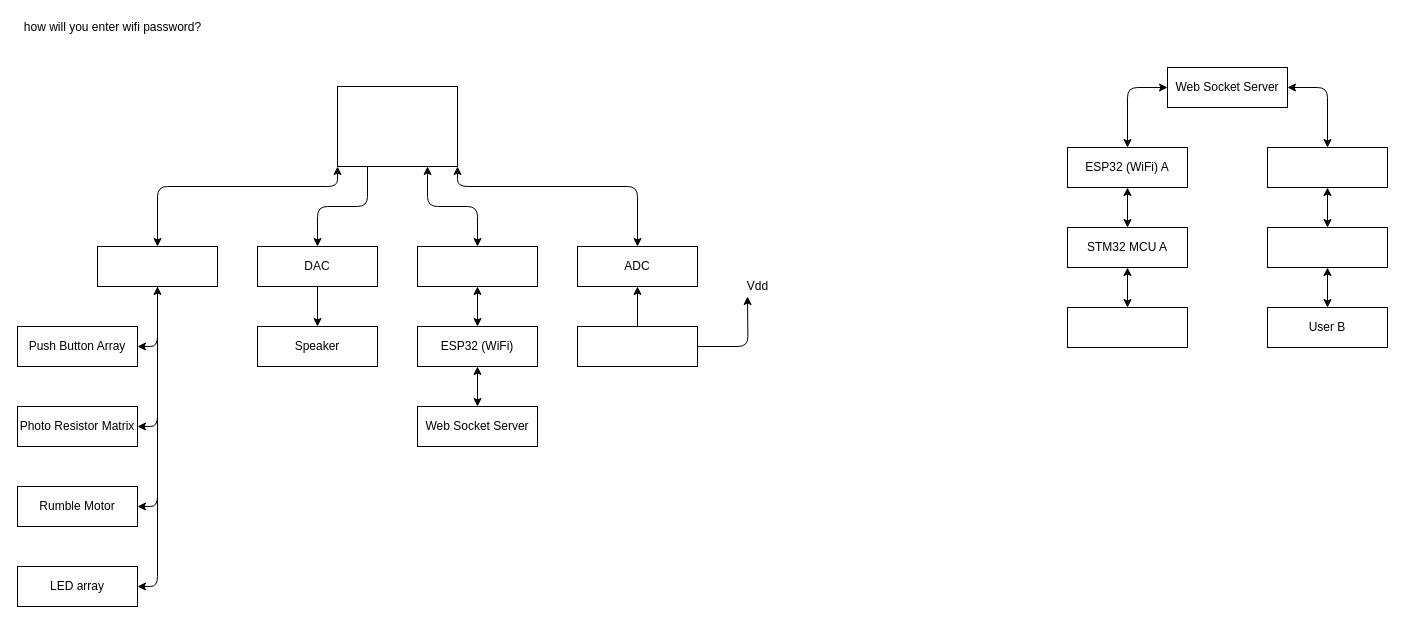
Some shapes in this 1405 by 624 pixel diagram are drawn without their labels. The shapes that lost their labels are listed below. From the top down, each one's box as (x1, y1, x2, y2) in pixels, then its label:
(336, 86, 458, 166): STM32 MCU
(1266, 146, 1388, 188): ESP32 (WiFi) B
(96, 246, 218, 286): GPIO
(416, 246, 538, 286): USART
(1266, 226, 1388, 268): STM32 MCU B
(576, 326, 698, 366): Battery/Holder
(1066, 306, 1188, 348): User A
